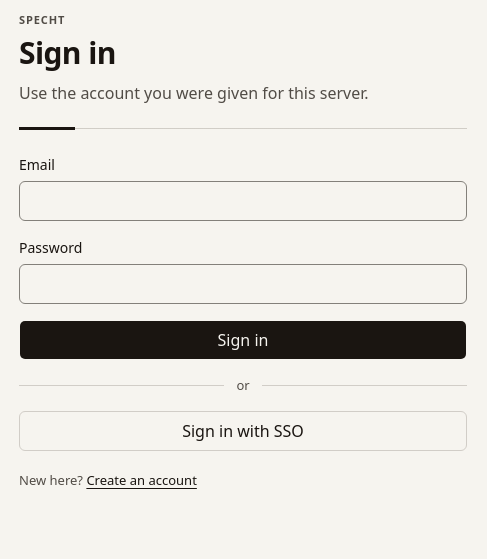
Login › shows error on invalid credentials
This screenshot has width=487, height=559.
Type "bad@test.com" into the field labelled "Email" at [243, 201], box [19,181,467,221]
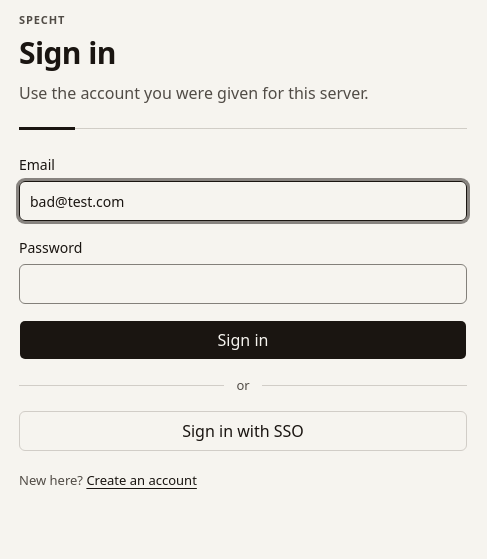
Type "wrong" into the password field labelled "Password" at [243, 284], box [19,264,467,304]
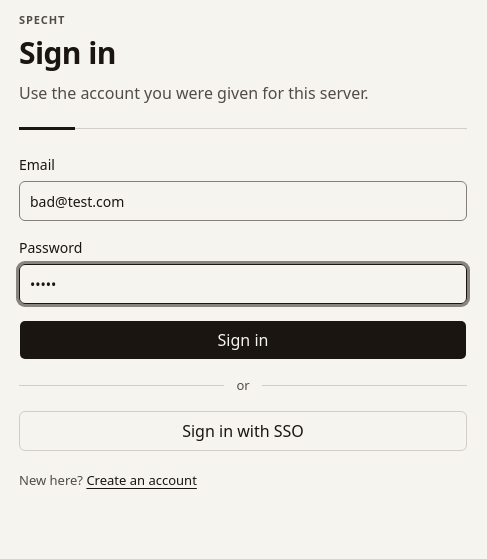
Click the button "Sign in" at [243, 340], box [19,320,467,360]
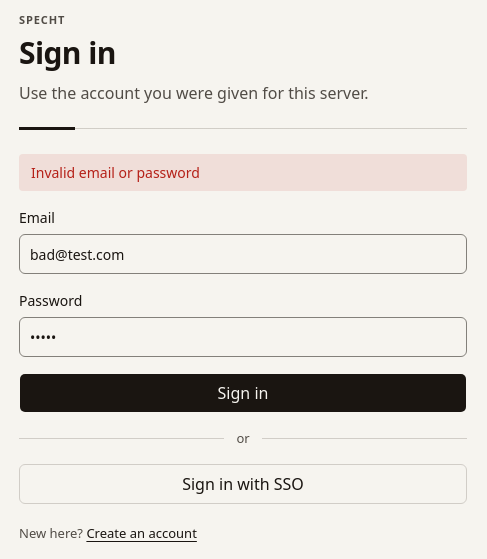
expect the text "Invalid email or password" is shown: met, box [19,154,467,191]
